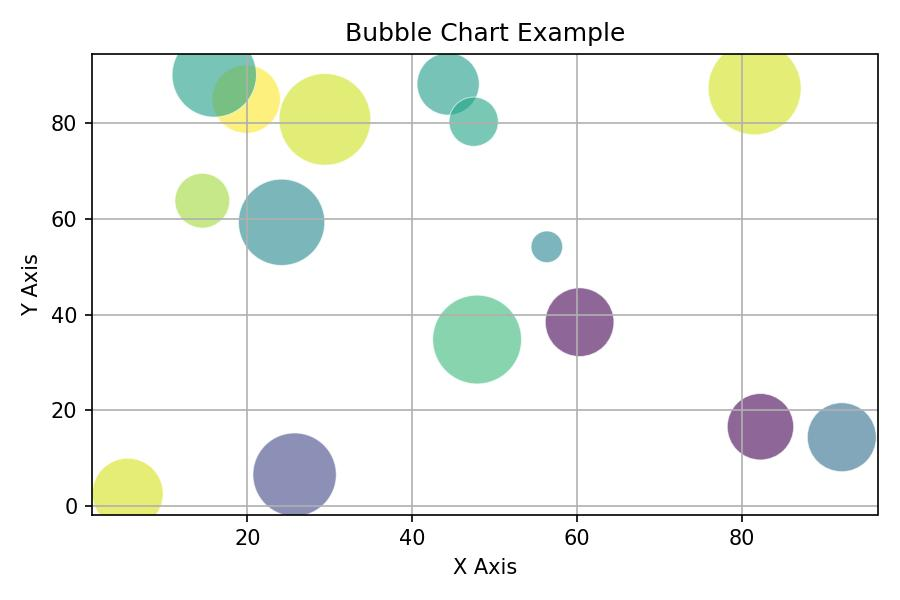axis: (84, 503, 884, 554), (53, 44, 106, 548)
circle: (431, 293, 523, 385), (281, 73, 370, 159), (240, 180, 326, 267), (710, 53, 801, 133), (254, 432, 337, 515), (174, 54, 256, 118), (545, 285, 617, 357), (809, 403, 877, 473), (729, 393, 794, 460), (215, 65, 277, 133), (91, 462, 166, 515), (419, 53, 480, 115), (173, 176, 229, 224), (449, 100, 499, 143), (533, 228, 563, 264)
